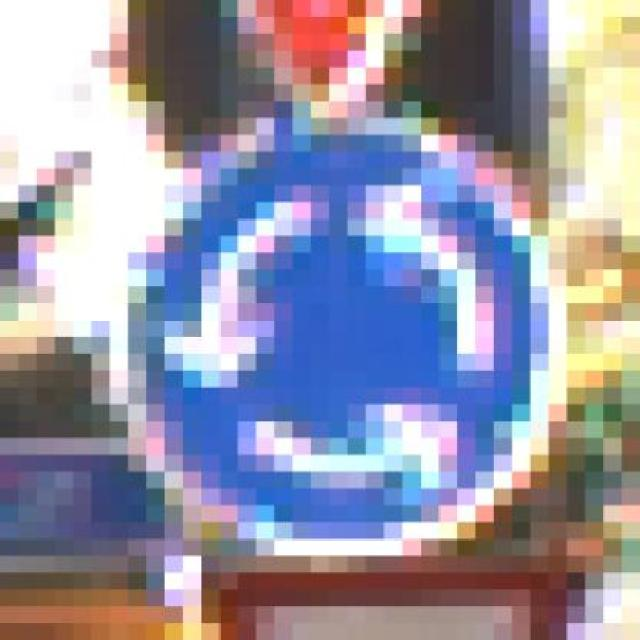Round-About: (36, 101, 622, 590)
